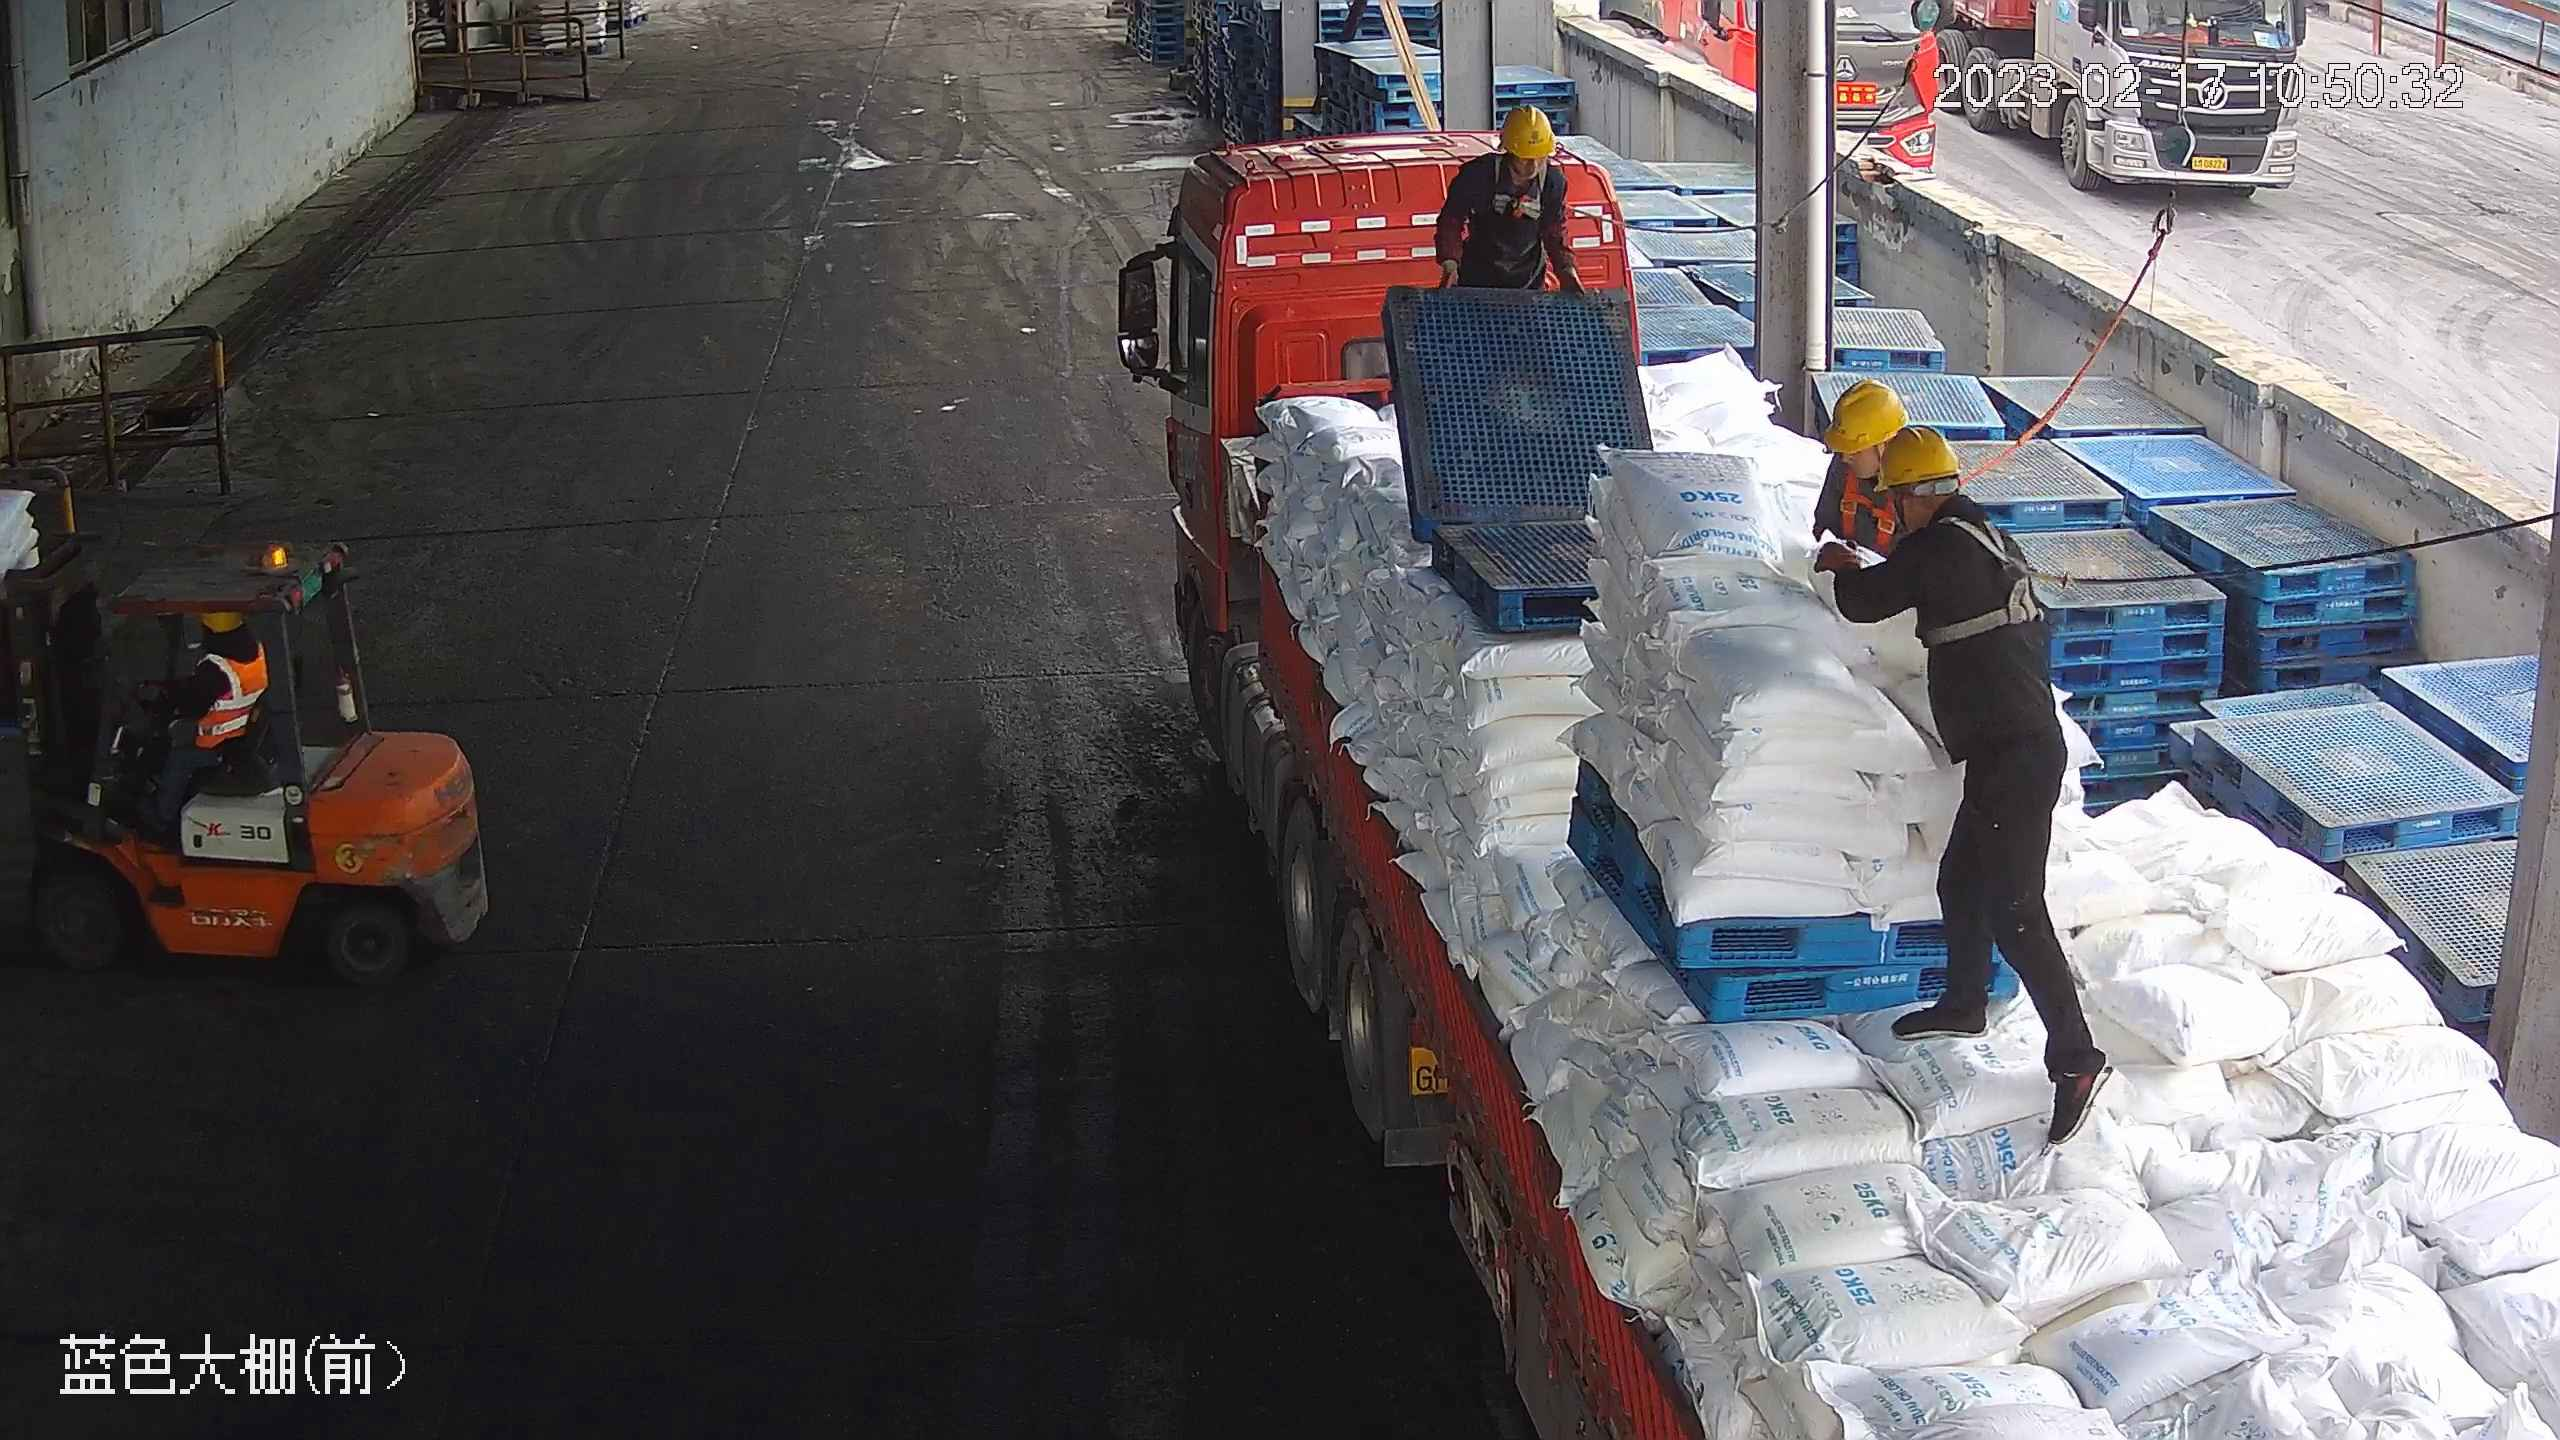belt: (1917, 508, 2067, 647), (1835, 444, 1911, 550), (1487, 151, 1570, 220)
head: (1866, 427, 2029, 573), (1451, 101, 1575, 202), (187, 610, 265, 686)
helmet: (1821, 376, 1909, 454), (1870, 425, 1966, 495), (1498, 103, 1557, 160)
people: (1814, 419, 2115, 1142), (123, 606, 270, 813), (1433, 99, 1580, 295)
truck: (1109, 122, 2557, 1440)
